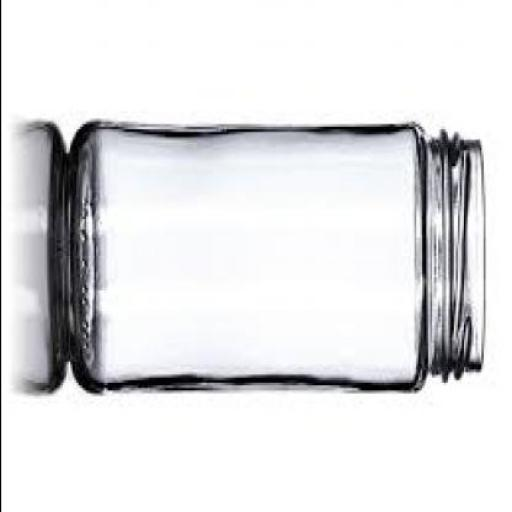glass: (63, 124, 487, 396)
